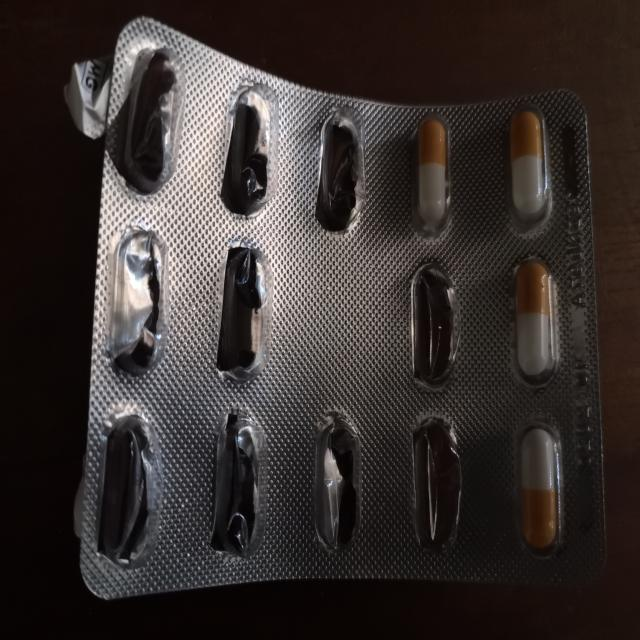Empty: (94, 402, 164, 575), (202, 399, 271, 568), (119, 33, 185, 200), (106, 216, 172, 383), (304, 404, 369, 560), (211, 232, 274, 392), (403, 412, 470, 556), (404, 255, 464, 397), (220, 78, 278, 224), (311, 104, 369, 240)
Pill: (502, 253, 564, 390), (510, 422, 567, 559), (499, 105, 557, 225), (406, 110, 457, 245)
